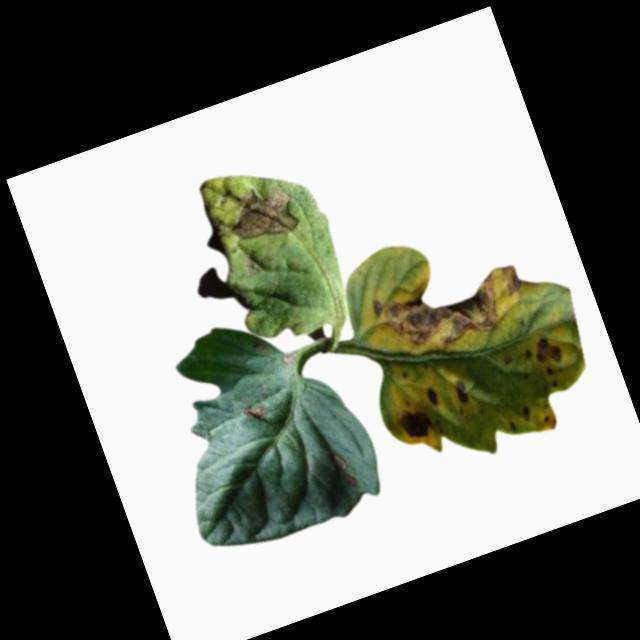Early_blight: (366, 240, 544, 370), (220, 177, 304, 254), (518, 328, 566, 375), (394, 402, 433, 447), (242, 399, 273, 425), (237, 252, 260, 284), (451, 375, 473, 405), (422, 383, 442, 410), (518, 403, 535, 425)
